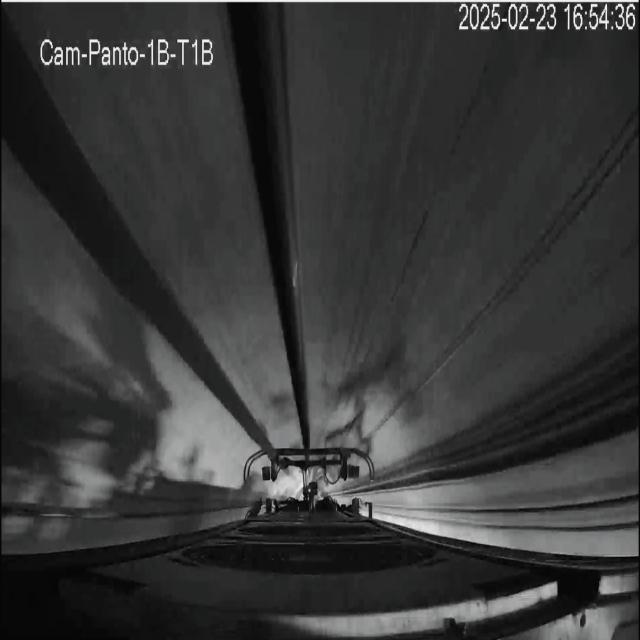Camera Stamp: (39, 34, 219, 68)
Date Stamp: (458, 3, 636, 33)
No - Spark: (309, 378, 400, 487), (245, 445, 375, 517)
